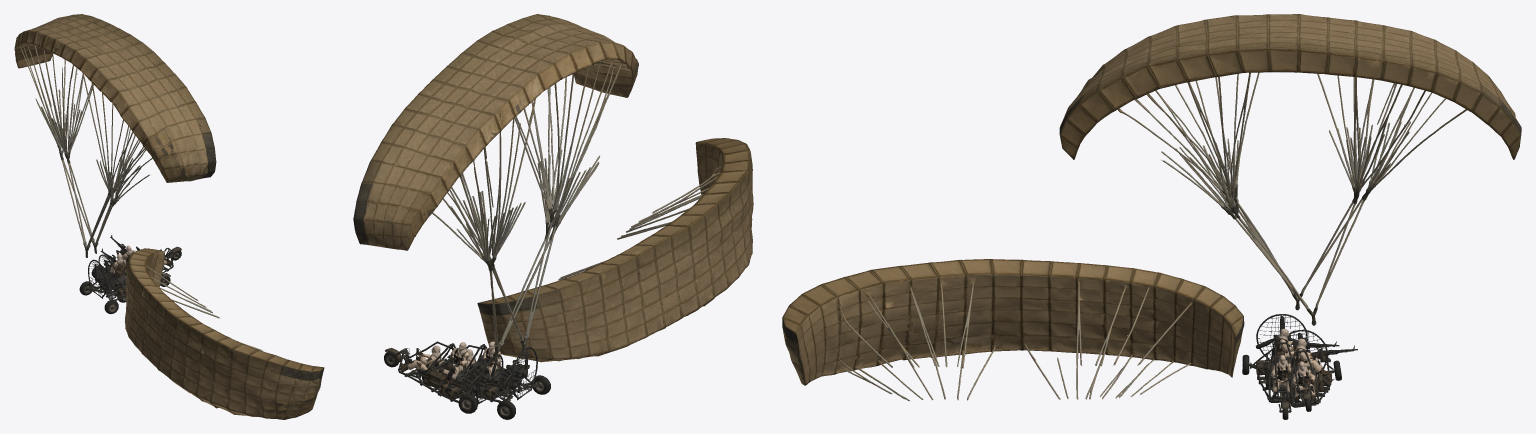
The model's file is paramotor.glb.
3 renders of one model, left to right at view 1: azimuth 30°, elevation 25°; view 2: azimuth 150°, elevation 25°; view 3: azimuth 270°, elevation 25°, orthographic. The views are drawn at different scales.
Visible parts, largest first — view 1: hull_hull, WRECK_hull_hull, WRECK_rigging_cut, rigging_cut, frame_cut, WRECK_frame_cut, hull_rubber; view 2: hull_hull, WRECK_hull_hull, WRECK_rigging_cut, rigging_cut, WRECK_frame_cut, frame_cut, WRECK_hull_rubber, hull_rubber; view 3: WRECK_hull_hull, hull_hull, WRECK_rigging_cut, rigging_cut, frame_cut, WRECK_frame_cut.
Boxes of the visible parts, x1,y1,x2,y2 form: hull_hull: [14, 14, 216, 182]; WRECK_hull_hull: [124, 248, 324, 419]; WRECK_rigging_cut: [35, 89, 149, 253]; rigging_cut: [40, 92, 151, 257]; frame_cut: [88, 248, 162, 300]; WRECK_frame_cut: [98, 235, 173, 290]; hull_rubber: [79, 273, 170, 313]; hull_hull: [353, 14, 638, 250]; WRECK_hull_hull: [477, 138, 753, 362]; WRECK_rigging_cut: [450, 146, 600, 361]; rigging_cut: [436, 128, 590, 355]; WRECK_frame_cut: [398, 341, 503, 404]; frame_cut: [460, 341, 537, 402]; WRECK_hull_rubber: [384, 348, 507, 413]; hull_rubber: [421, 375, 550, 419]; WRECK_hull_hull: [782, 259, 1244, 400]; hull_hull: [1059, 14, 1521, 159]; WRECK_rigging_cut: [1161, 121, 1410, 325]; rigging_cut: [1168, 126, 1418, 310]; frame_cut: [1253, 314, 1339, 402]; WRECK_frame_cut: [1282, 329, 1357, 407].
Size of the model in its own units: 1.3 by 2.51 by 4.76.
Materials: 2 (2 with a texture image).
